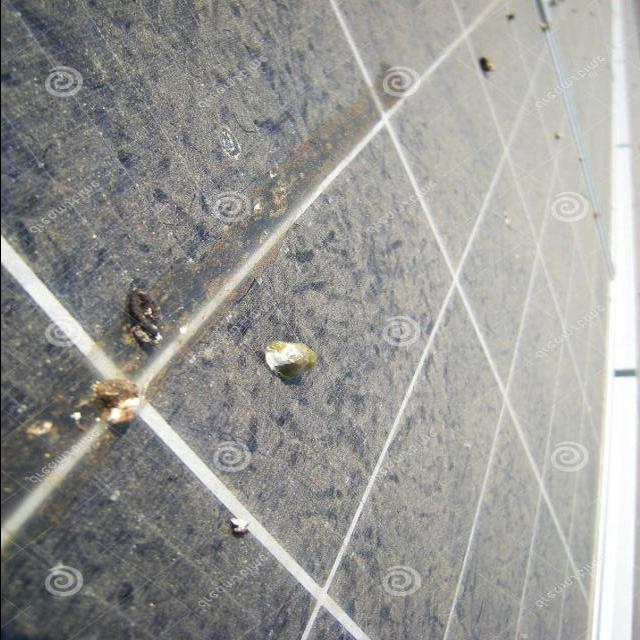soiled: (0, 0, 615, 638)
